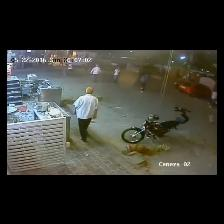person: (74, 88, 97, 142), (208, 90, 218, 107), (91, 65, 100, 82), (141, 75, 148, 92), (114, 68, 120, 84), (68, 62, 72, 75)
